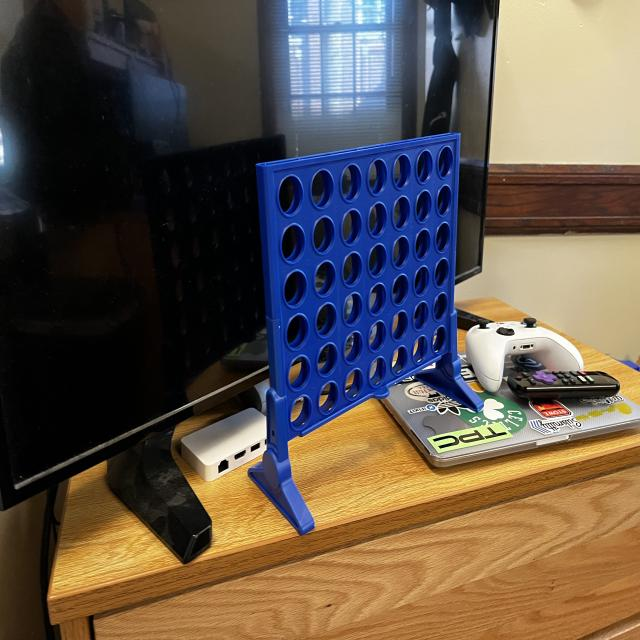Board: (260, 126, 459, 439)
